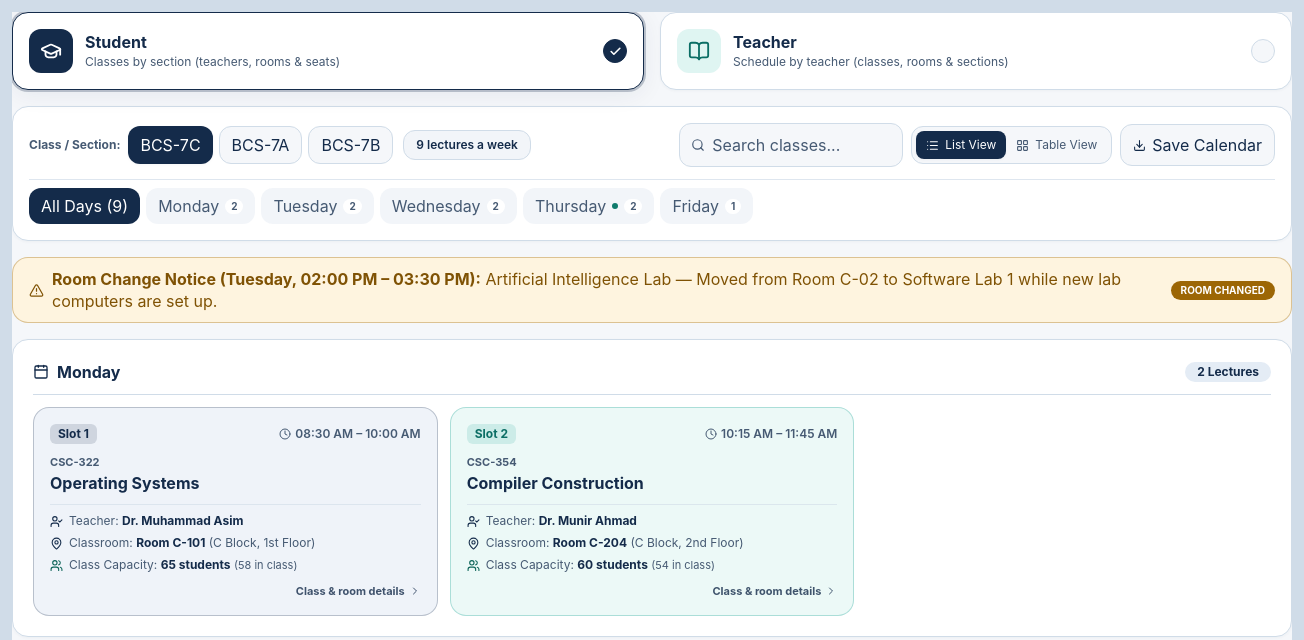
Scenario: TimetableHub › switches sections cleanly and updates lecture counts
The image size is (1304, 640).
Step 1. Click the button "BCS-7A" → coordinates (260, 145), box [219,126,302,164]
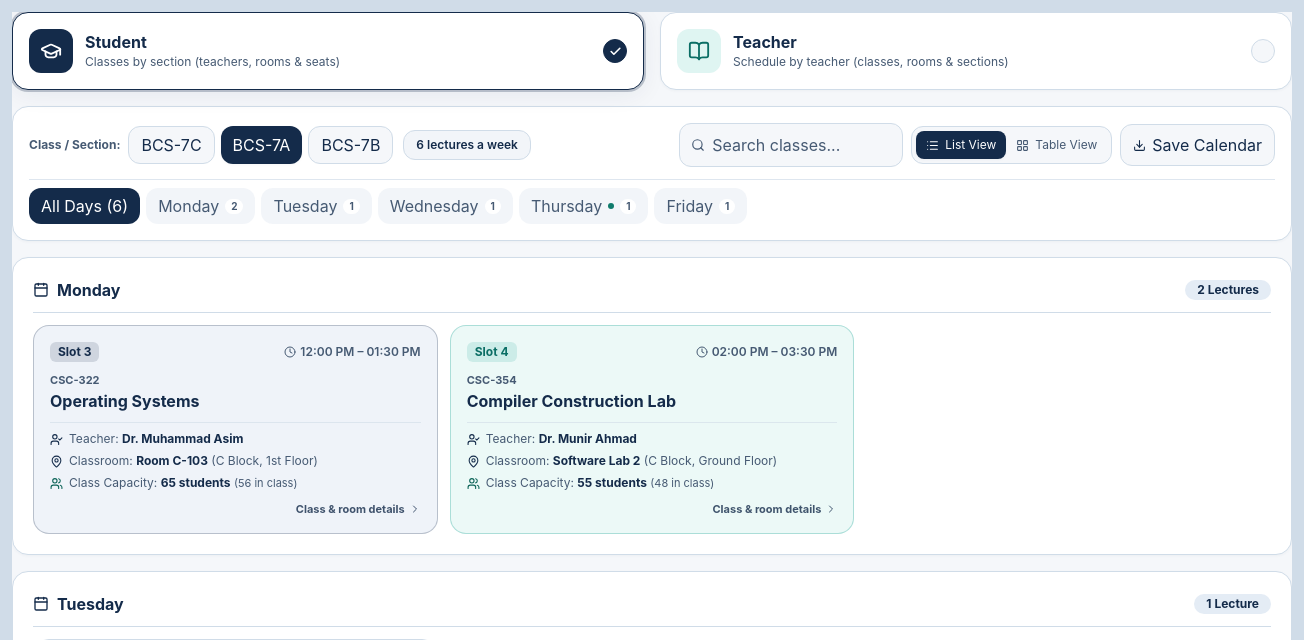
Expected: the text "6 lectures a week" is shown, [403,130,531,160]
Step 2. Click the button "BCS-7B" → coordinates (351, 145), box [308,126,393,164]
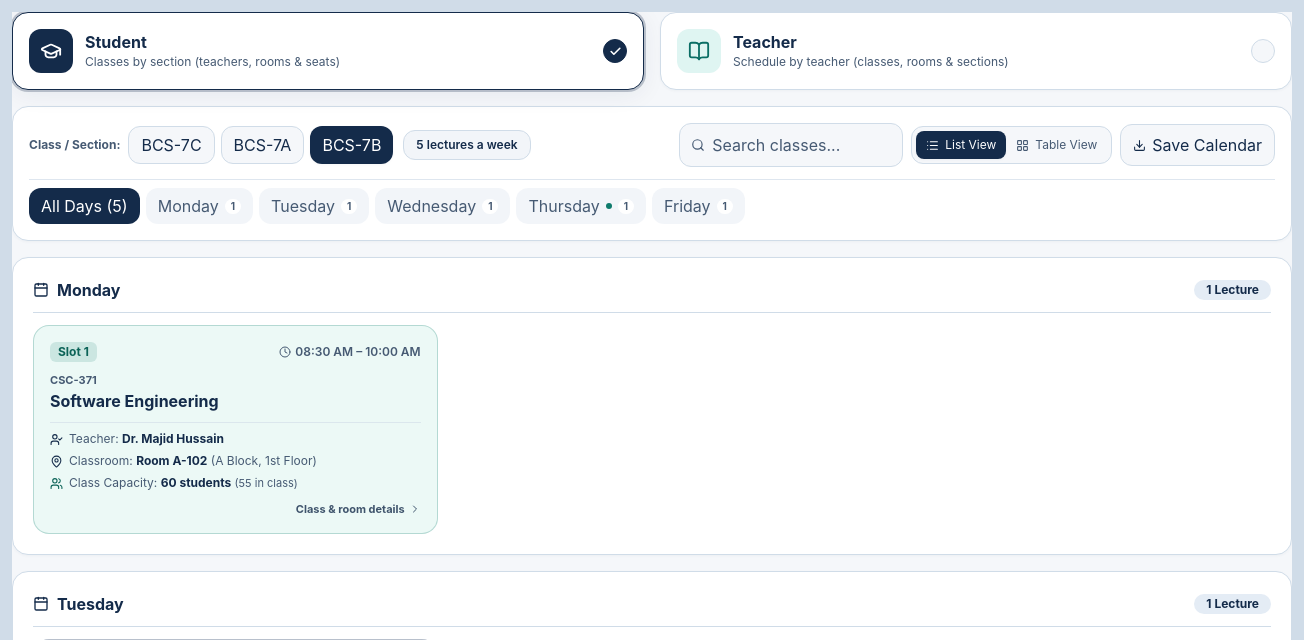
Expected: the text "5 lectures a week" is shown, [403,130,531,160]
